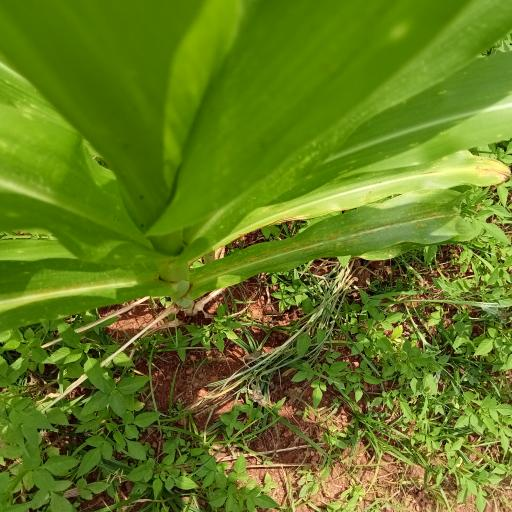Corn_Brown_Spots: (188, 198, 508, 298), (207, 150, 512, 250)
